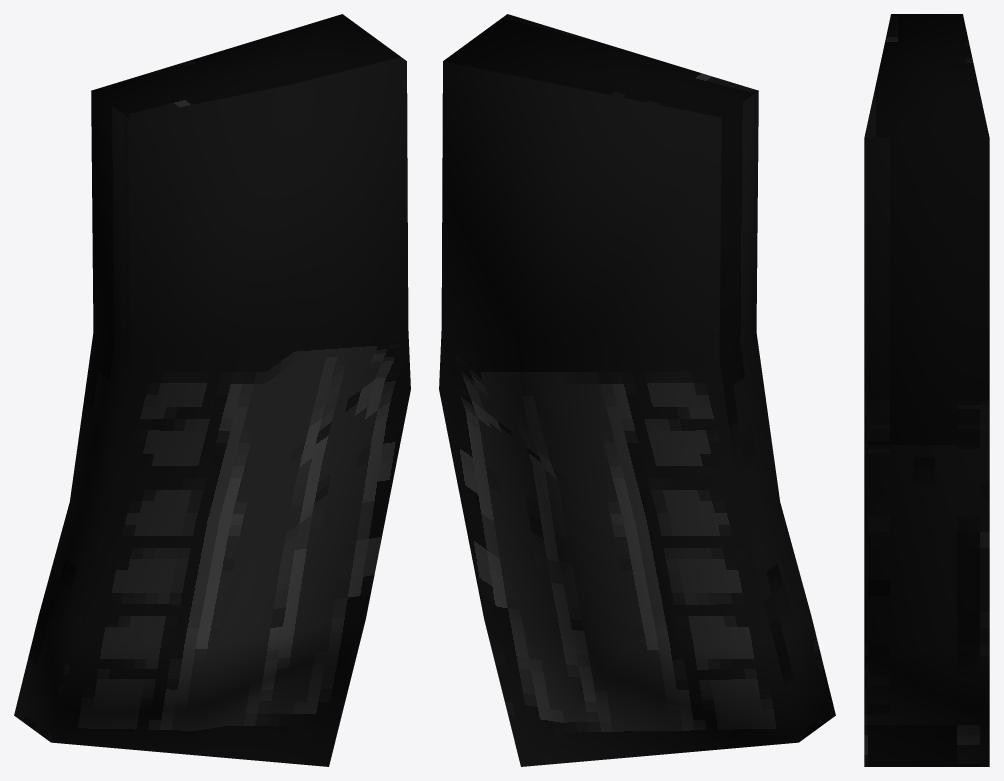
File: m4a1_mag.obj
The picture shows the model from 3 angles, left to right: view 1: azimuth 30°, elevation 25°; view 2: azimuth 150°, elevation 25°; view 3: azimuth 270°, elevation 25°; orthographic projection. The views are drawn at different scales.
Parts seen in each view (by area): view 1: m4a1_mag; view 2: m4a1_mag; view 3: m4a1_mag.
Boxes of the visible parts, left/top/right/bottom form: m4a1_mag: left=14, top=14, right=410, bottom=766; m4a1_mag: left=439, top=14, right=835, bottom=766; m4a1_mag: left=864, top=14, right=989, bottom=766.
Bounding box in the file's own units: 0.0654 × 0.124 × 0.0211.
Materials: 1 (1 with a texture image).
